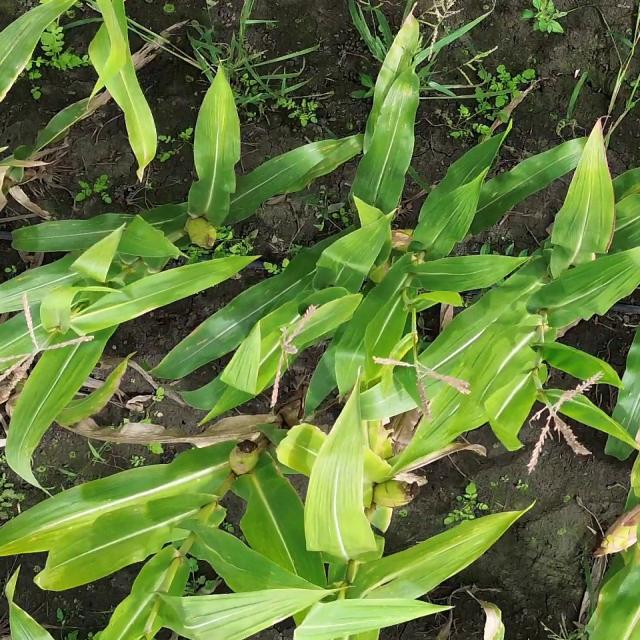gray-leaf-spot: (0, 199, 174, 271), (384, 512, 509, 578), (372, 30, 421, 162), (252, 130, 360, 188)
northern-leaf-blight: (562, 102, 621, 274)
southern-leaf-blight: (416, 148, 558, 233), (174, 285, 280, 365)
